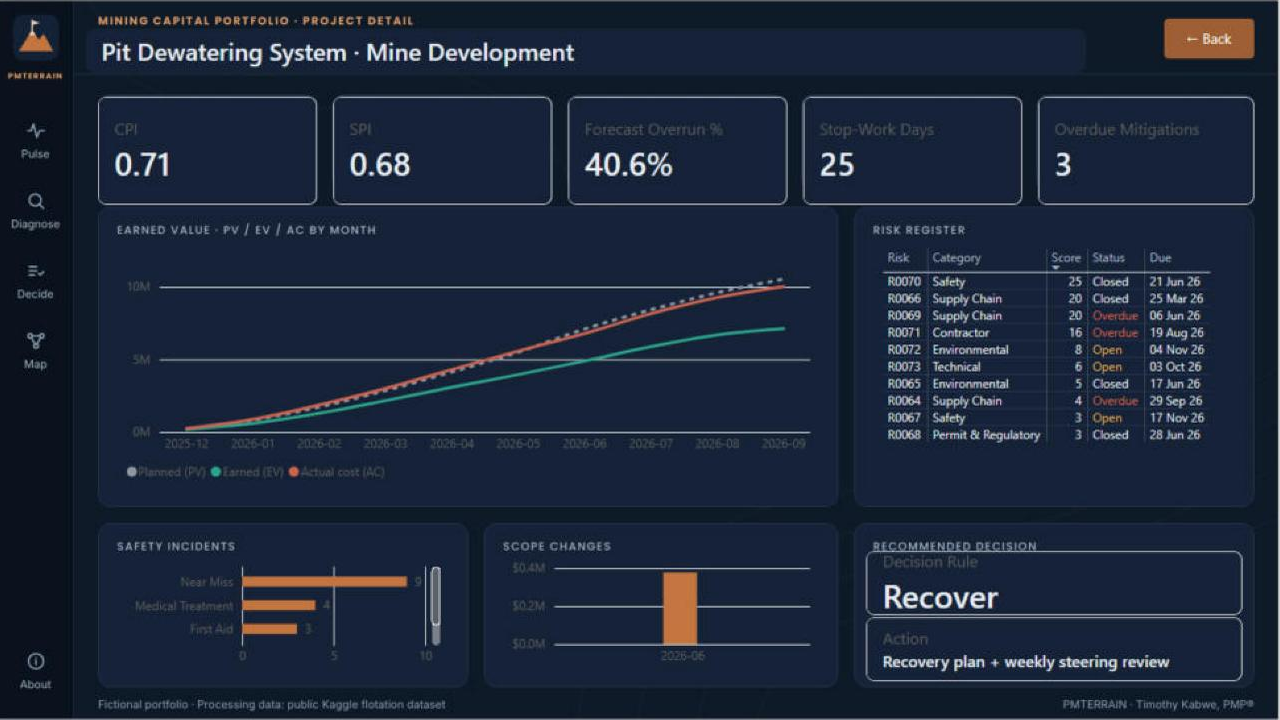

Layout of this report page (visuals, bound fields, positions):
{"tool":"powerbi","page":{"name":"Project Detail","canvas":[1280,720],"ordinal":5},"visuals":[{"type":"actionButton","box":[1166,18,90,40],"z":0},{"type":"cardVisual","fields":{"Data":["Key_MeasuresPMO.Stop-Work Days"]},"box":[805,96,219,108],"z":1000},{"type":"cardVisual","fields":{"Data":["Key_MeasuresPMO.CPI"]},"box":[100,96,219,108],"z":2000},{"type":"cardVisual","fields":{"Data":["Key_MeasuresPMO.SPI"]},"box":[335,96,219,108],"z":3000},{"type":"cardVisual","fields":{"Data":["Key_MeasuresPMO.Forecast Overrun %"]},"box":[570,96,219,108],"z":4000},{"type":"cardVisual","fields":{"Data":["Key_MeasuresPMO.Overdue Mitigations"]},"box":[1040,96,216,108],"z":5000},{"type":"cardVisual","fields":{"Data":["Key_MeasuresPMO.Project Title"]},"box":[88,28,1000,44],"z":6000},{"type":"lineChart","fields":{"Category":["Calendar.YearMonth"],"Y":["Sum(Fact_ProjectMonthly.PV_USD)","Sum(Fact_ProjectMonthly.EV_USD)","Sum(Fact_ProjectMonthly.AC_USD)"]},"box":[112,234,716,266],"z":7000},{"type":"tableEx","fields":{"Values":["Fact_Risk.RiskID","Fact_Risk.RiskCategory","Sum(Fact_Risk.RiskScore)","Fact_Risk.Mitigation Status","Fact_Risk.MitigationDueDate"]},"box":[868,234,376,266],"z":8000},{"type":"barChart","fields":{"Category":["Fact_SafetyIncident.IncidentType"],"Y":["CountNonNull(Fact_SafetyIncident.IncidentID)"]},"box":[112,544,346,140],"z":9000},{"type":"clusteredColumnChart","fields":{"Category":["Calendar.YearMonth"],"Y":["Key_MeasuresPMO.Scope Change Cost"]},"box":[498,544,330,140],"z":10000},{"type":"cardVisual","fields":{"Data":["Key_MeasuresPMO.Decision Rule"]},"box":[868,550,376,64],"z":11000},{"type":"cardVisual","fields":{"Data":["Key_MeasuresPMO.Action"]},"box":[868,616,376,64],"z":12000},{"type":"actionButton","box":[0,110,76,64],"z":13000},{"type":"actionButton","box":[0,180,76,64],"z":14000},{"type":"actionButton","box":[0,250,76,64],"z":15000},{"type":"actionButton","box":[0,640,76,64],"z":16000},{"type":"actionButton","box":[0,320,76,64],"z":17000}]}

Visuals, with their boxes in screenshot pixels (x1, y1, x2, y2), scaled from the page's 1280x720 canvas onto the 1280x720 screenshot:
actionButton: Rect(1166, 18, 1256, 58)
cardVisual - Key_MeasuresPMO.Stop-Work Days: Rect(805, 96, 1024, 204)
cardVisual - Key_MeasuresPMO.CPI: Rect(100, 96, 319, 204)
cardVisual - Key_MeasuresPMO.SPI: Rect(335, 96, 554, 204)
cardVisual - Key_MeasuresPMO.Forecast Overrun %: Rect(570, 96, 789, 204)
cardVisual - Key_MeasuresPMO.Overdue Mitigations: Rect(1040, 96, 1256, 204)
cardVisual - Key_MeasuresPMO.Project Title: Rect(88, 28, 1088, 72)
lineChart - Calendar.YearMonth x Sum(Fact_ProjectMonthly.PV_USD): Rect(112, 234, 828, 500)
tableEx - Fact_Risk.RiskID x Fact_Risk.RiskCategory: Rect(868, 234, 1244, 500)
barChart - Fact_SafetyIncident.IncidentType x CountNonNull(Fact_SafetyIncident.IncidentID): Rect(112, 544, 458, 684)
clusteredColumnChart - Calendar.YearMonth x Key_MeasuresPMO.Scope Change Cost: Rect(498, 544, 828, 684)
cardVisual - Key_MeasuresPMO.Decision Rule: Rect(868, 550, 1244, 614)
cardVisual - Key_MeasuresPMO.Action: Rect(868, 616, 1244, 680)
actionButton: Rect(0, 110, 76, 174)
actionButton: Rect(0, 180, 76, 244)
actionButton: Rect(0, 250, 76, 314)
actionButton: Rect(0, 640, 76, 704)
actionButton: Rect(0, 320, 76, 384)
